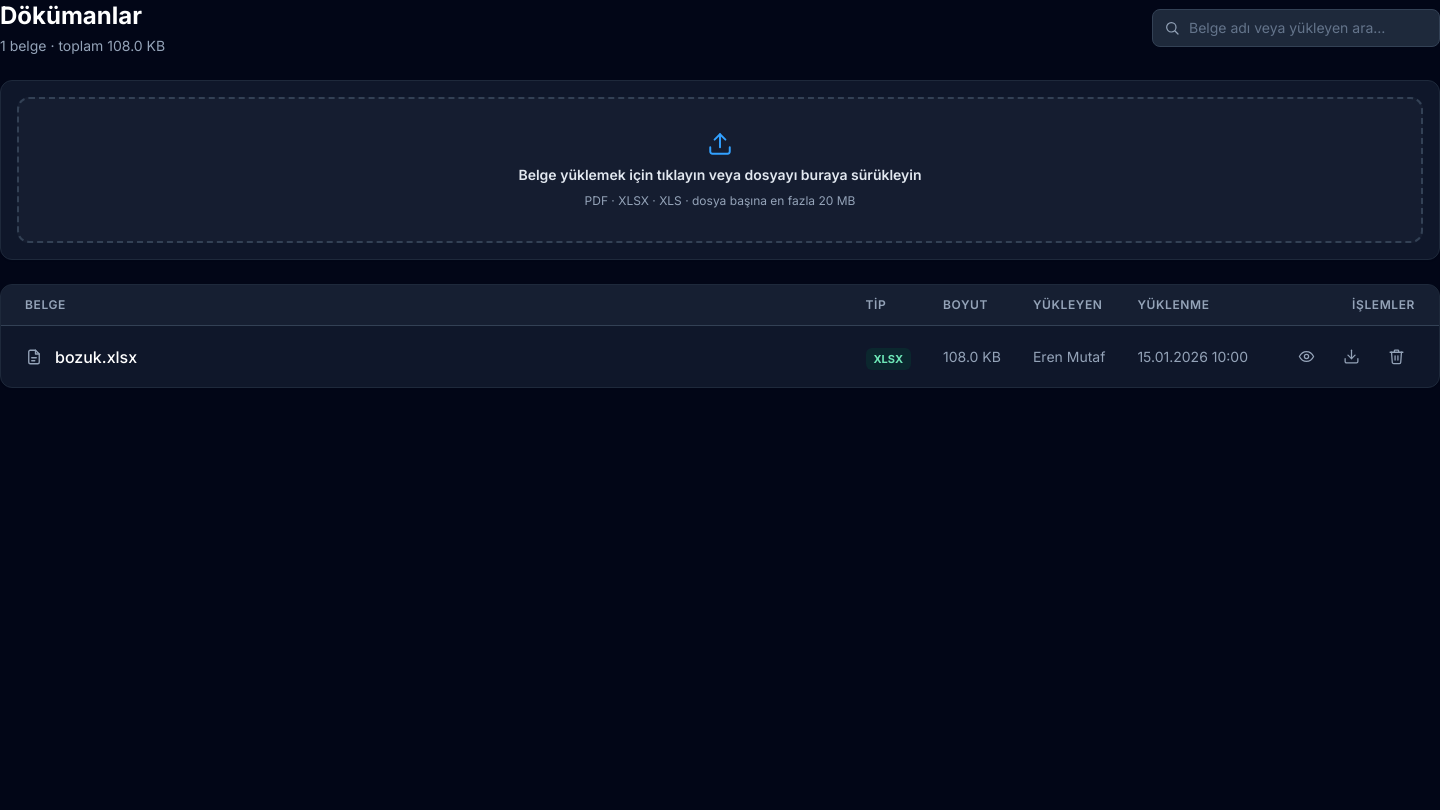
it: DocumentLibrary — belge kütüphanesi › önizleme açılamazsa hata gösterir ve indirme seçeneği sunar
The image size is (1440, 810).
Click the button "bozuk.xlsx" at point(96, 356), box [25, 344, 826, 368]
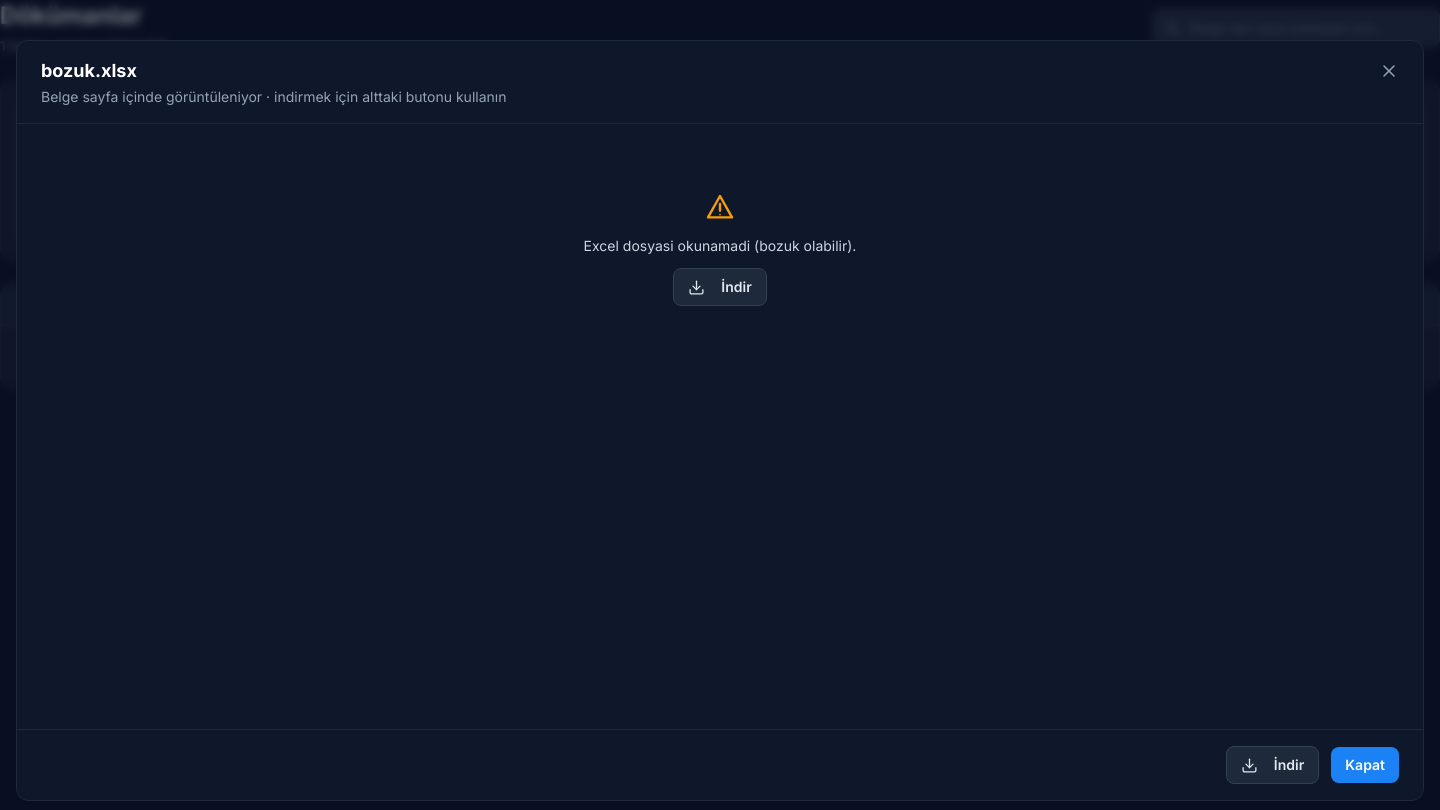
Expected: the text "Excel dosyasi okunamadi (bozuk olabilir)." is shown, [584, 236, 856, 256]
